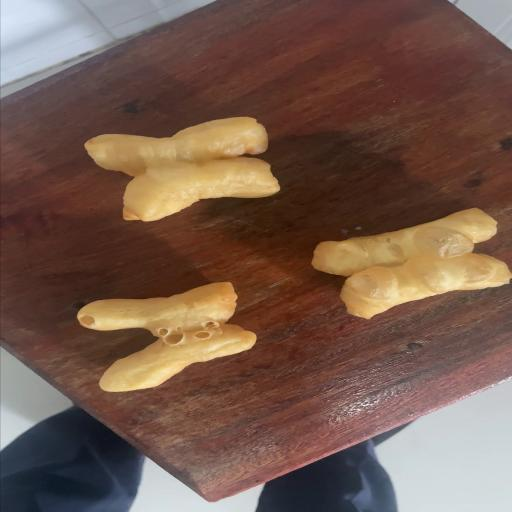street_golden_defect: (311, 208, 512, 318), (77, 282, 256, 391), (340, 253, 512, 319)
street_golden_good: (84, 117, 280, 222)
